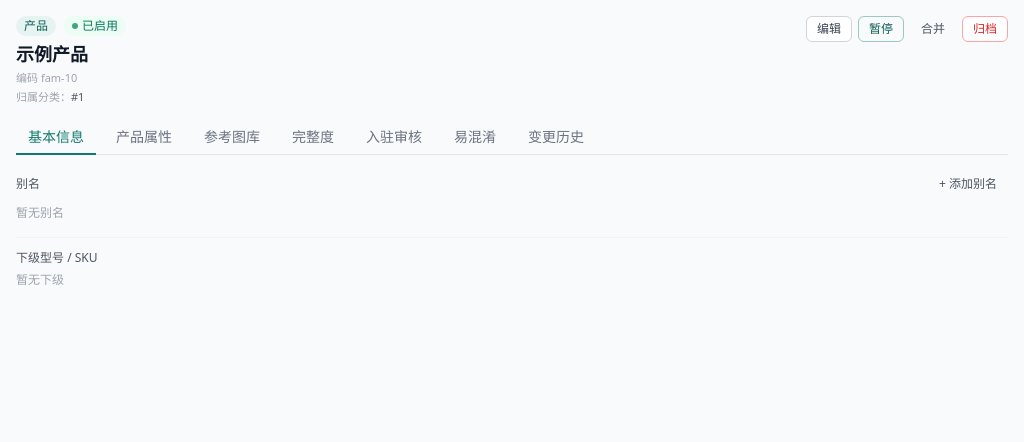
Test: EntityDetail › 切到入驻审核 Tab 显示权限提示（无用户权限体系）
Step 1. Click the tab with test id "detail-tab-onboarding" → (394, 138), box [354,121,434,155]
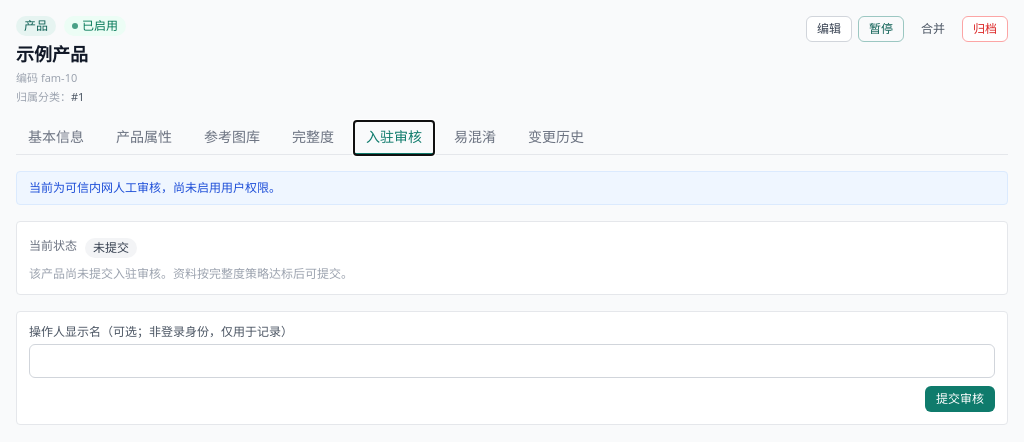
expect the element with test id "detail-tabpanel-onboarding" is shown: met, box [16,171,1008,425]
expect the text with test id "onboarding-permission-notice" reads "当前为可信内网人工审核，尚未启用用户权限。": met, box [29,179,281,196]
